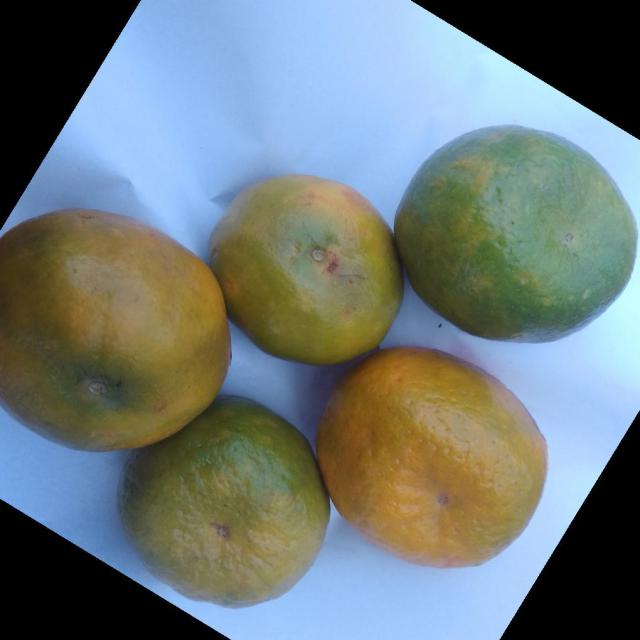fresh orange: (0, 206, 232, 452), (393, 122, 637, 344), (315, 344, 548, 568), (116, 393, 330, 608), (207, 173, 404, 365)
